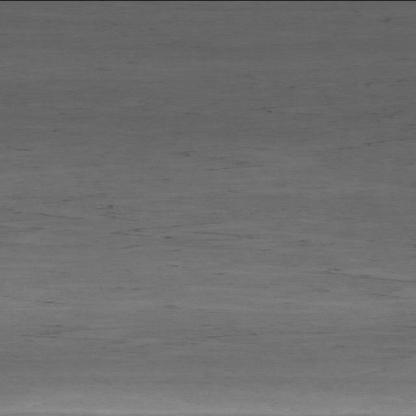silk_spot: (23, 148, 292, 289)
